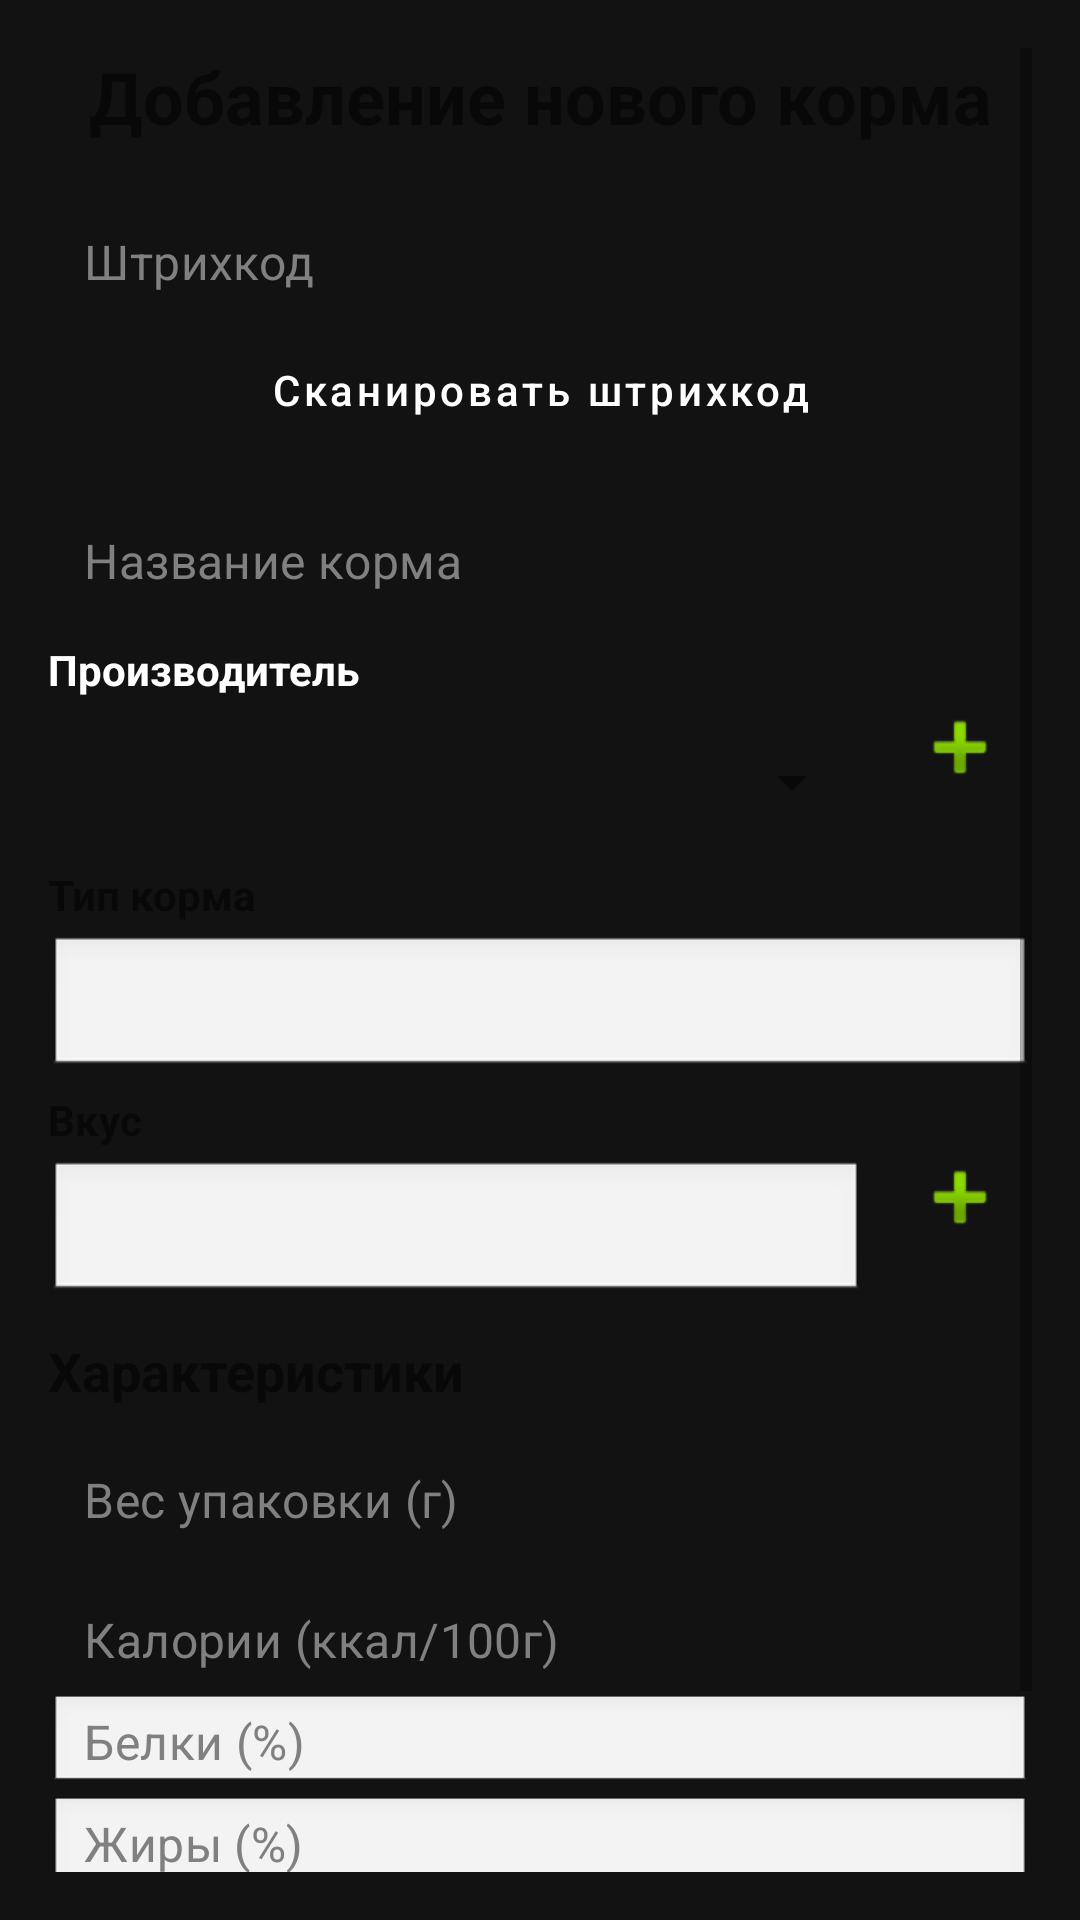

Icons on this 1080×1920 Android screen, each with the point to tap as (x,y):
Добавить производителя: (960,747)
